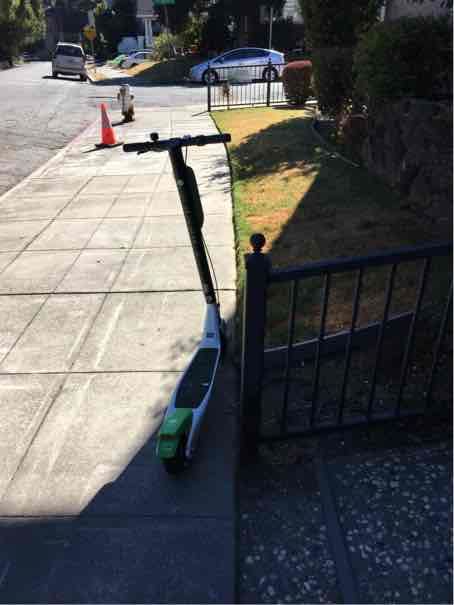scooter: (114, 121, 247, 486)
